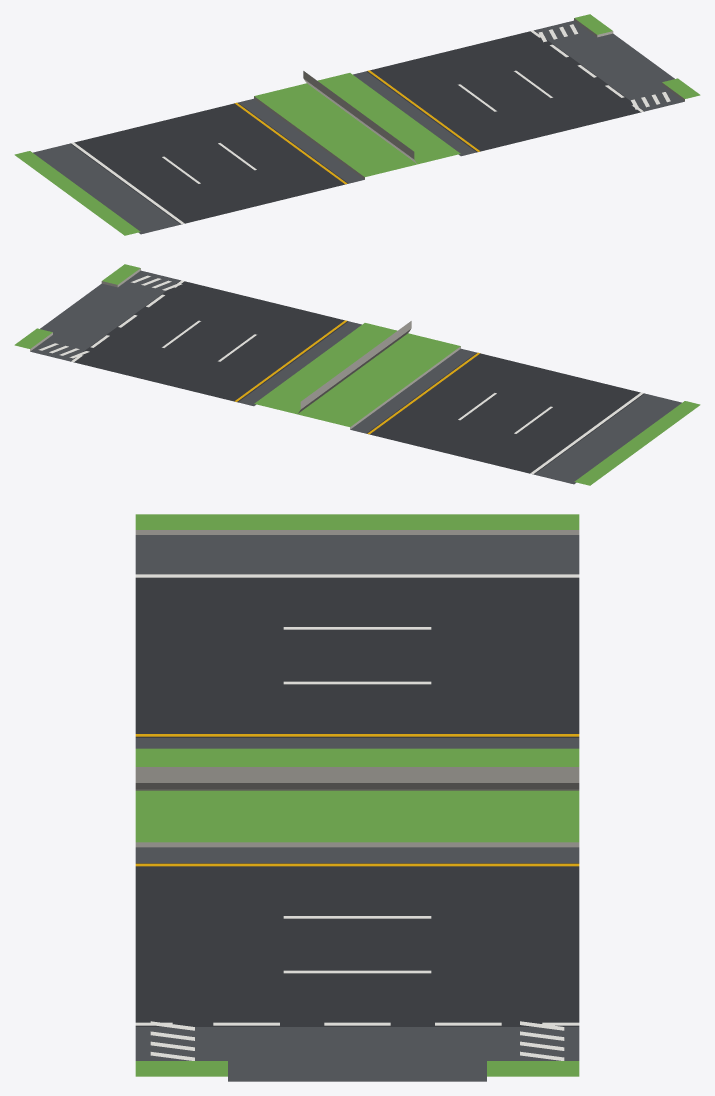
Rendered from rodovia-acesso.glb.
3 renders of one model, top to bottom at view 1: azimuth 30°, elevation 25°; view 2: azimuth 150°, elevation 25°; view 3: azimuth 270°, elevation 25°, orthographic. The views are drawn at different scales.
Parts seen in each view (by area): view 1: Asfalto, Grama, Faixas, Mureta; view 2: Asfalto, Grama, Faixas, Mureta; view 3: Asfalto, Grama, Mureta, Faixas.
Boxes of the visible parts, x1=… form: Asfalto: x1=33, y1=20, x2=684, y2=234; Grama: x1=14, y1=14, x2=700, y2=235; Faixas: x1=71, y1=24, x2=670, y2=224; Mureta: x1=303, y1=71, x2=416, y2=163; Asfalto: x1=30, y1=270, x2=681, y2=484; Grama: x1=14, y1=264, x2=700, y2=485; Faixas: x1=38, y1=275, x2=643, y2=474; Mureta: x1=298, y1=321, x2=411, y2=413; Asfalto: x1=135, y1=535, x2=579, y2=1081; Grama: x1=135, y1=514, x2=579, y2=1076; Mureta: x1=135, y1=767, x2=579, y2=790; Faixas: x1=135, y1=574, x2=579, y2=1060.
Size of the model in its own units: 36 by 0.96 by 12.
